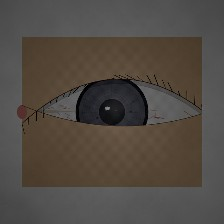pterygium_lesion: (21, 87, 84, 137)
